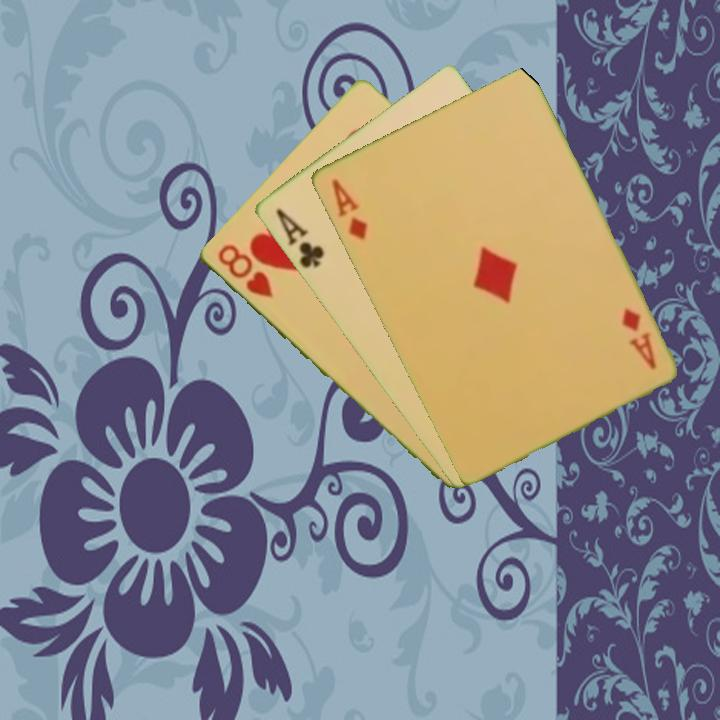8h: (213, 241, 276, 301)
Ac: (271, 204, 327, 271)
Ad: (327, 175, 370, 243), (618, 304, 659, 373)
